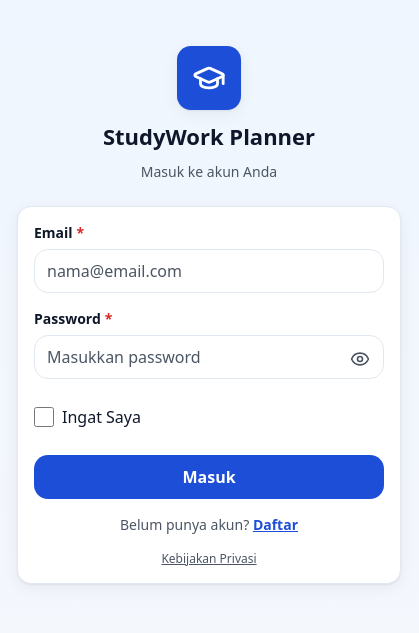
LoginPage › menampilkan pesan SKPL bila kredensial salah
Type "budi@example.test" into the field labelled "Email*" at (209, 271), box x1=34 y1=249 x2=384 y2=293
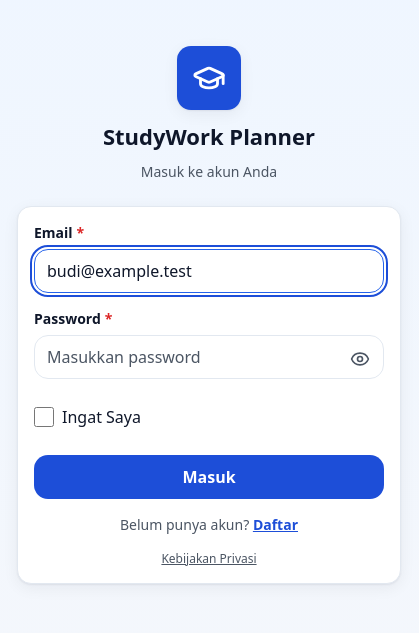
Type "passwordsalah1" into the password field labelled "Password*" at (209, 357), box x1=34 y1=335 x2=384 y2=379
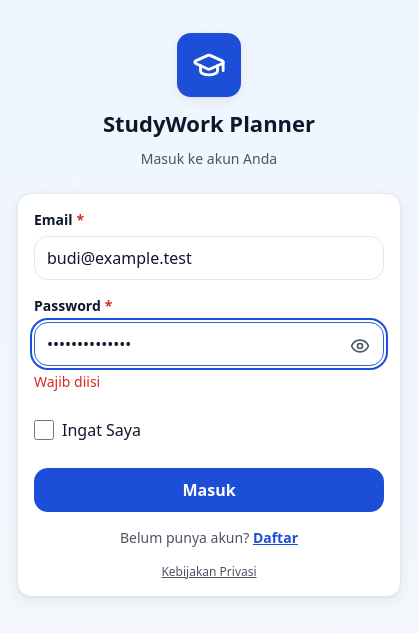
Click the button "Masuk" at (209, 490), box x1=34 y1=468 x2=384 y2=512
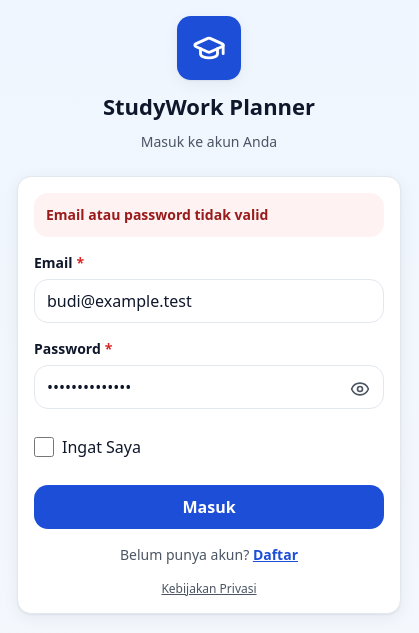
Now the text "Email atau password tidak valid" is shown, box x1=34 y1=193 x2=384 y2=237
